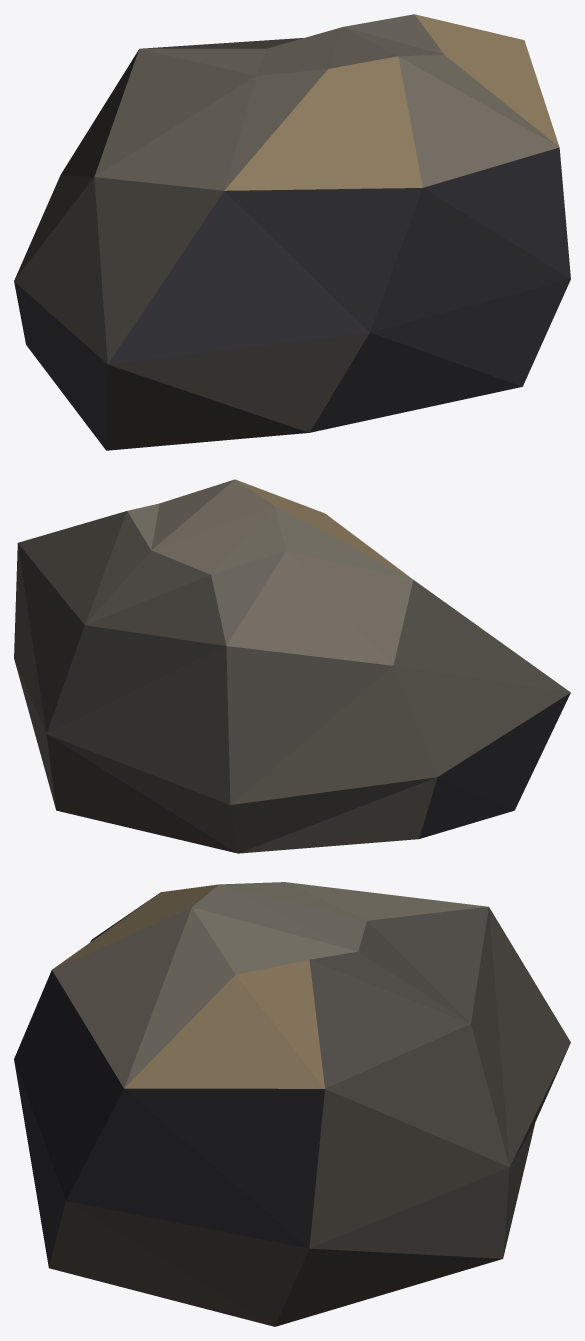
File: SM_Rock_A.fbx
The picture shows the model from 3 angles, top to bottom: view 1: azimuth 30°, elevation 25°; view 2: azimuth 150°, elevation 25°; view 3: azimuth 270°, elevation 25°; orthographic projection. The views are drawn at different scales.
Parts seen in each view (by area): view 1: SM_Rock_A; view 2: SM_Rock_A; view 3: SM_Rock_A.
Boxes of the visible parts, x1=… form: SM_Rock_A: x1=14, y1=14, x2=570, y2=450; SM_Rock_A: x1=14, y1=479, x2=570, y2=853; SM_Rock_A: x1=14, y1=882, x2=570, y2=1326.
Size of the model in its own units: 2.2 by 1.25 by 1.8.
